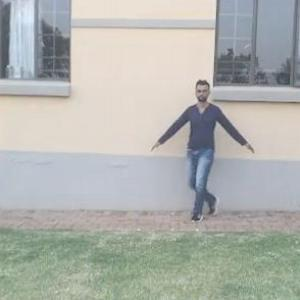land: (157, 80, 254, 228)
